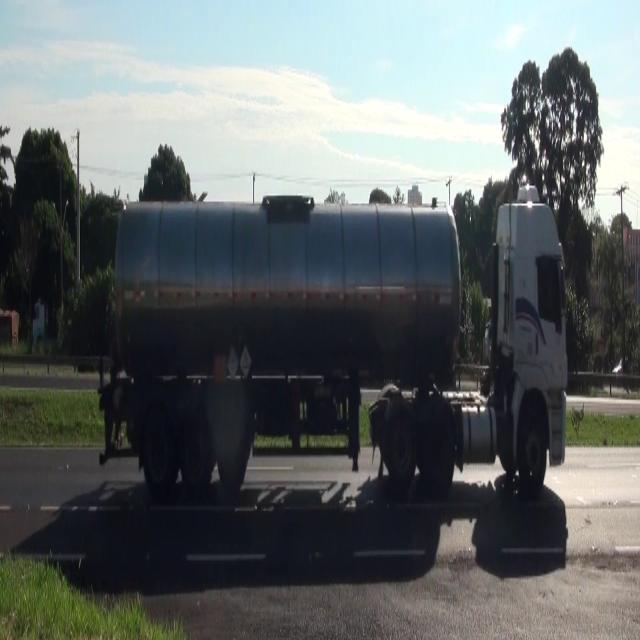-axle: (420, 408, 457, 502), (178, 402, 212, 498), (143, 405, 177, 495), (519, 408, 550, 488), (216, 415, 247, 488), (385, 405, 412, 484)
